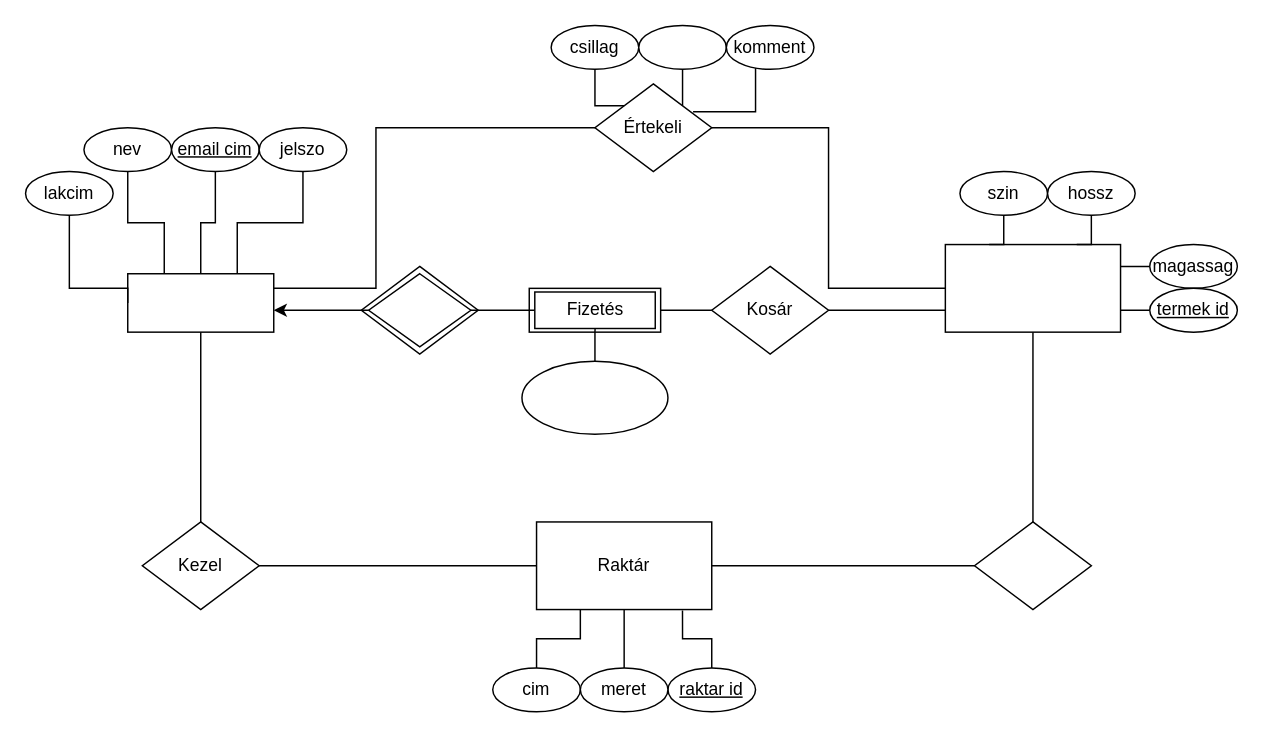
The diagram is 1263 pixels wide and 737 high, and some of its shapes have lost their labels. The centre of each missing label's shape, as x and y in pixels:
"datum" belongs at (681,46).
"Felhasználó" belongs at (200,302).
"kártya/készpénz" belongs at (594,397).
"Megvesz" belongs at (419,309).
"Tartozik" belongs at (1032,565).
"Termék" belongs at (1032,287).
